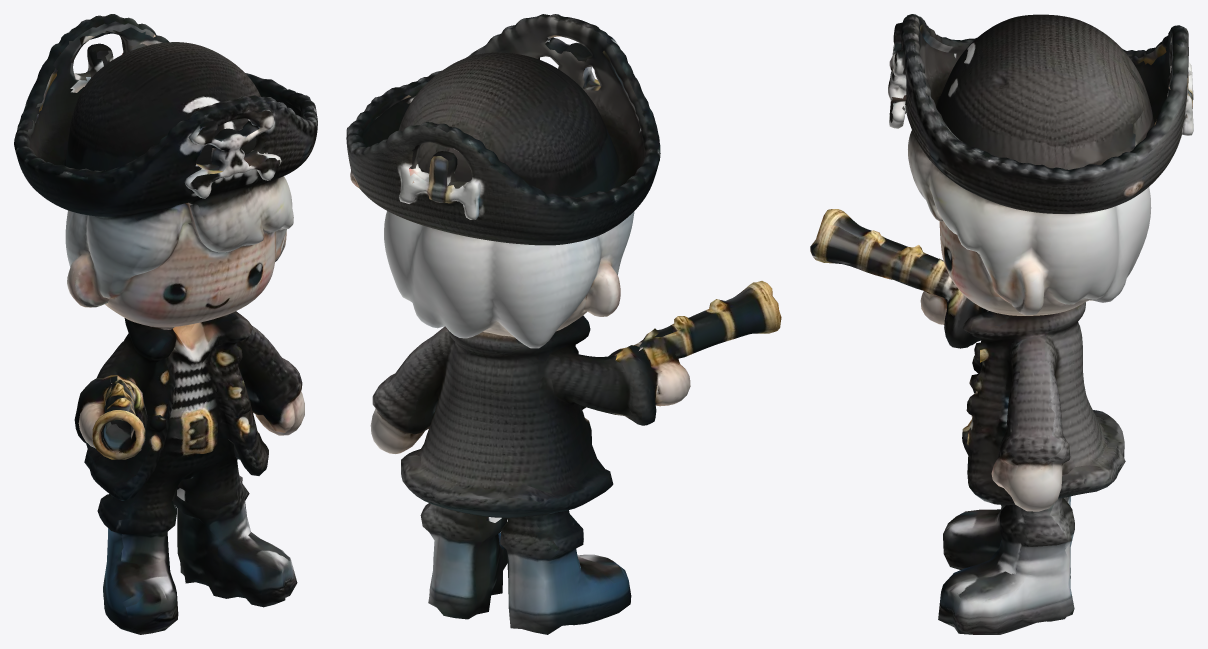
Rendered from rdaierc3.glb.
3 views of the same model, side by side, from view 1: azimuth 30°, elevation 25°; view 2: azimuth 150°, elevation 25°; view 3: azimuth 270°, elevation 25° (orthographic). The views are drawn at different scales.
Parts seen in each view (by area): view 1: Pirate Doll; view 2: Pirate Doll; view 3: Pirate Doll.
Boxes of the visible parts, <box> form: Pirate Doll: <box>14,14,317,634</box>; Pirate Doll: <box>346,14,781,634</box>; Pirate Doll: <box>810,14,1193,634</box>.
Bounding box in the file's own units: 0.1682 × 0.28 × 0.1716.
Materials: 1 (1 with a texture image).
